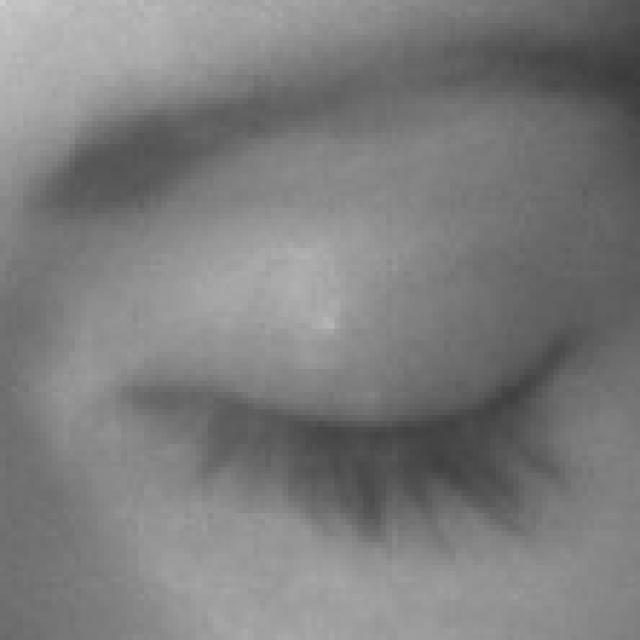Eyeclosed: (105, 201, 577, 640)
